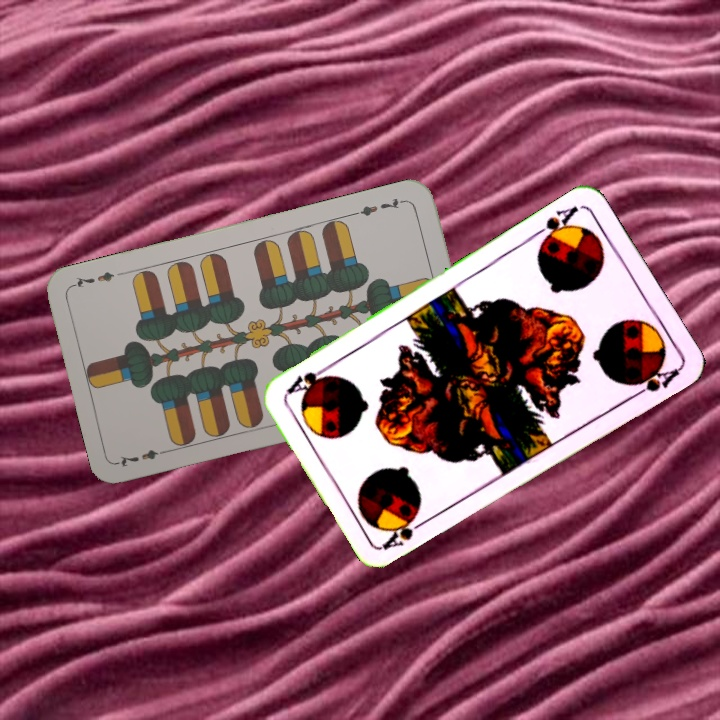E7: (350, 193, 409, 219), (114, 445, 173, 470)
SA: (528, 202, 581, 249), (379, 513, 433, 552)
